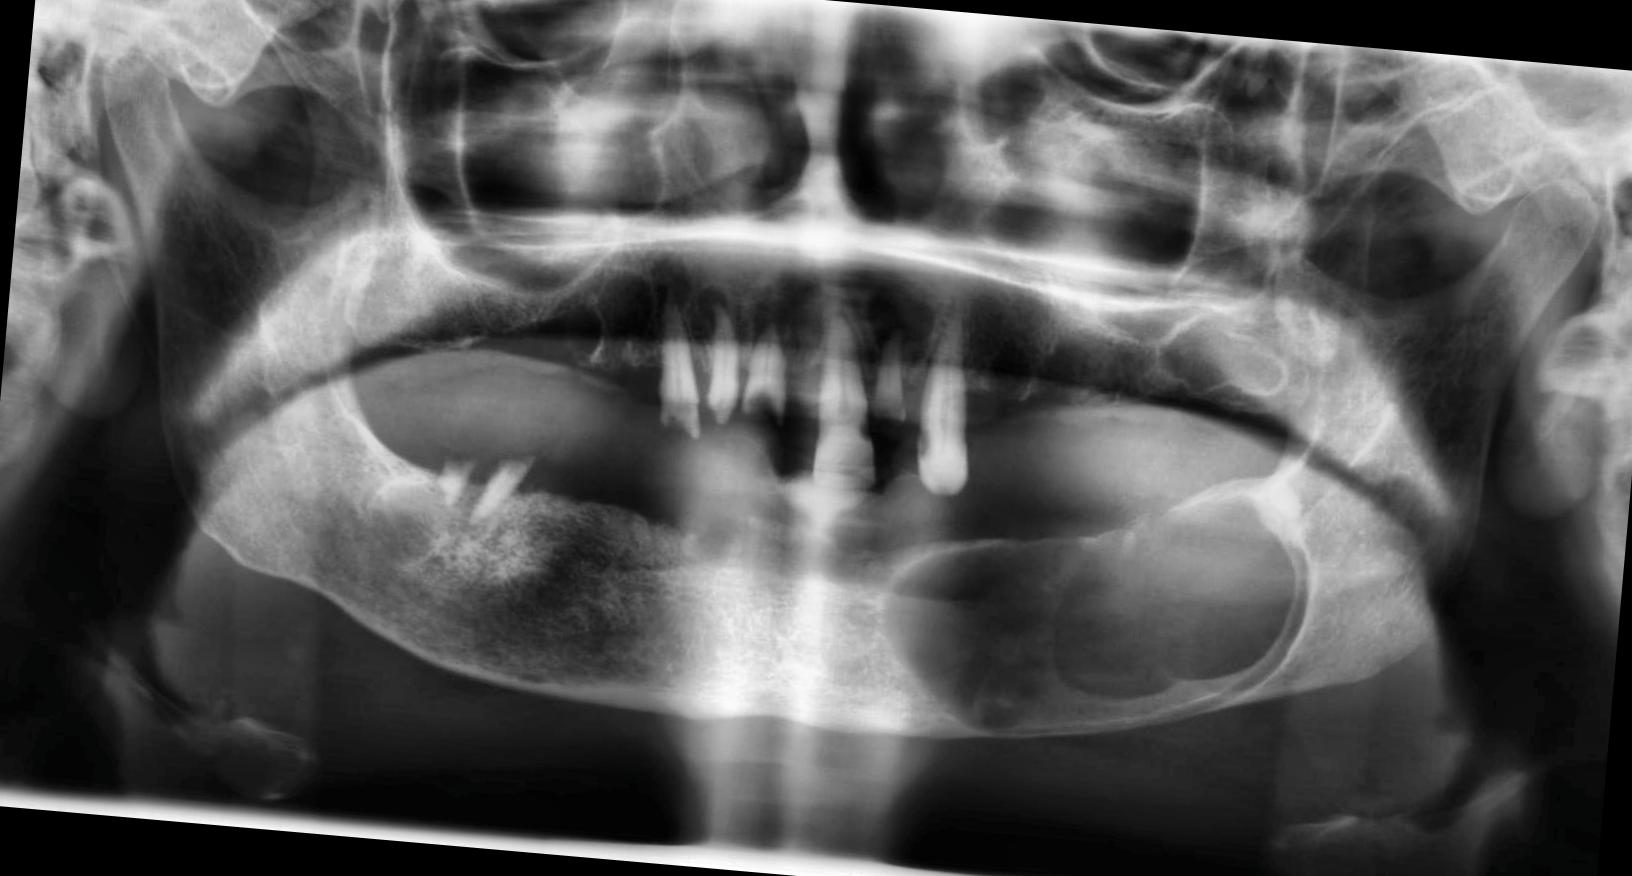keratokist: (873, 461, 1319, 763)
radikuler: (362, 469, 460, 572), (643, 252, 698, 318), (689, 285, 735, 350)
